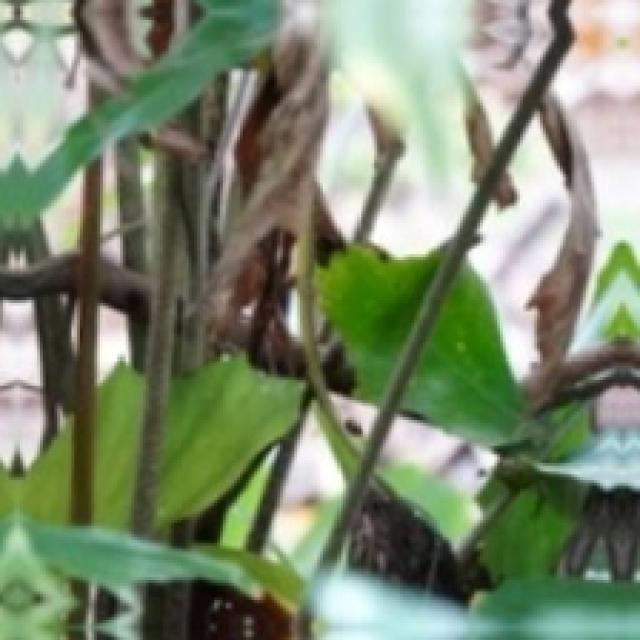paradise tree snake: (549, 386, 637, 577)
